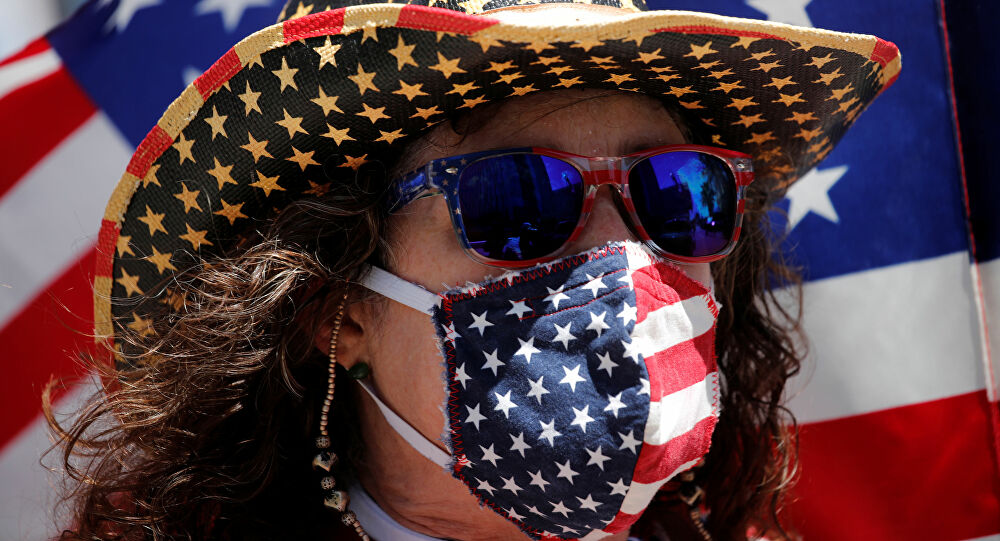with_mask: (330, 81, 785, 531)
